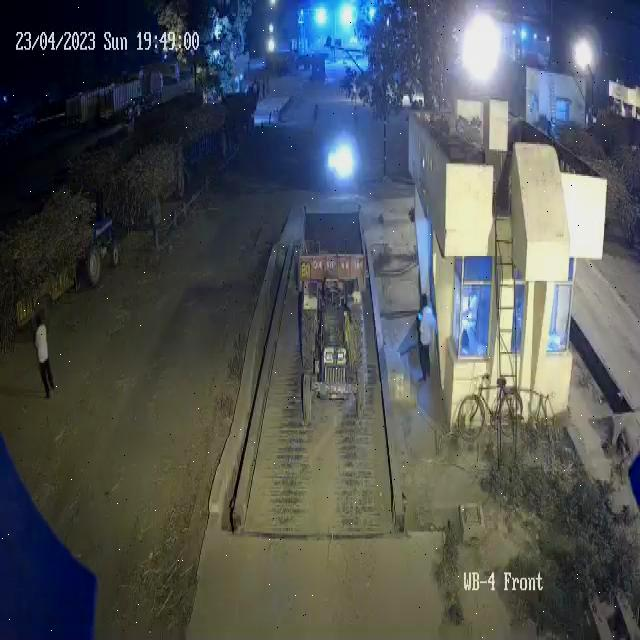Tratores - v5 YOLO V8L 2024-11-13: (293, 268, 367, 438)
